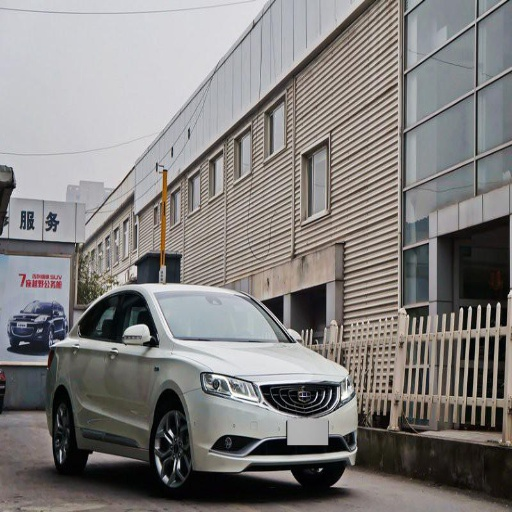front_bumper: (187, 375, 358, 472)
front_right_door: (107, 289, 155, 440)
front_right_light: (200, 372, 260, 401)
